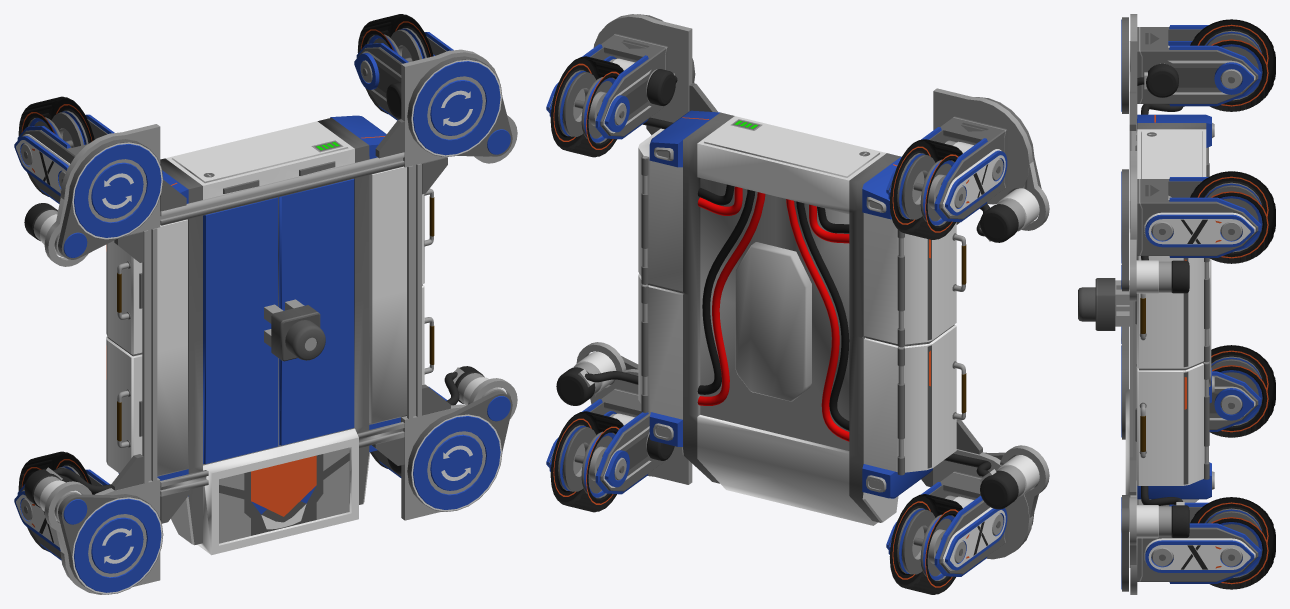
File: SwerveDrive_robot.glb
3 renders of one model, left to right at view 1: azimuth 30°, elevation 25°; view 2: azimuth 150°, elevation 25°; view 3: azimuth 270°, elevation 25°, orthographic. The views are drawn at different scales.
Parts seen in each view (by area): view 1: Main_body, Steering_FR, Steering_RR, Steering_FL, Steering_RL, drive_RR, drive_RL, wheel_RR, wheel_RL, 2Dlidar, wheel_FR, drive_FR; view 2: Main_body, Steering_RR, Steering_FR, drive_RL, drive_RR, wheel_FL, wheel_RL, wheel_RR, wheel_FR, drive_FR, drive_FL, Steering_FL (+1 smaller); view 3: Main_body, drive_RR, drive_RL, drive_FL, Steering_RL, Steering_FL, wheel_FL, wheel_RL, wheel_RR, wheel_FR, drive_FR, Steering_RR (+2 smaller).
Part boxes in pixels (x1,y1,x2,y2): Main_body: [106, 115, 450, 555]; Steering_FR: [24, 467, 163, 594]; Steering_RR: [24, 124, 163, 266]; Steering_FL: [401, 366, 517, 520]; Steering_RL: [401, 49, 517, 167]; drive_RR: [14, 114, 114, 203]; drive_RL: [354, 32, 453, 120]; wheel_RR: [18, 96, 94, 196]; wheel_RL: [357, 14, 433, 113]; 2Dlidar: [271, 305, 325, 361]; wheel_FR: [18, 451, 94, 551]; drive_FR: [14, 469, 109, 560]; Main_body: [638, 83, 982, 525]; Steering_RR: [933, 88, 1049, 242]; Steering_FR: [933, 445, 1049, 559]; drive_RL: [546, 33, 677, 139]; drive_RR: [886, 116, 1007, 222]; wheel_FL: [550, 411, 626, 512]; wheel_RL: [550, 56, 626, 157]; wheel_RR: [889, 139, 965, 239]; wheel_FR: [889, 494, 965, 594]; drive_FR: [886, 471, 1007, 576]; drive_FL: [546, 388, 674, 494]; Steering_FL: [556, 342, 692, 484]; Main_body: [1115, 91, 1214, 531]; drive_RR: [1137, 25, 1261, 106]; drive_RL: [1137, 177, 1261, 257]; drive_FL: [1137, 502, 1261, 583]; Steering_RL: [1121, 151, 1189, 301]; Steering_FL: [1121, 480, 1189, 594]; wheel_FL: [1190, 497, 1275, 589]; wheel_RL: [1190, 171, 1275, 263]; wheel_RR: [1190, 19, 1275, 111]; wheel_FR: [1210, 345, 1275, 437]; drive_FR: [1209, 371, 1261, 431]; Steering_RR: [1121, 14, 1184, 133].
Size of the model in its own units: 0.7197 by 0.67 by 0.286.
